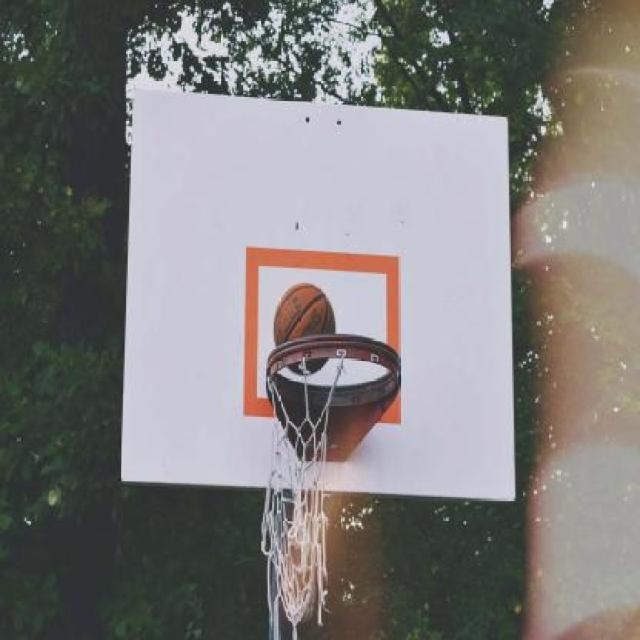basketball: (272, 282, 336, 376)
